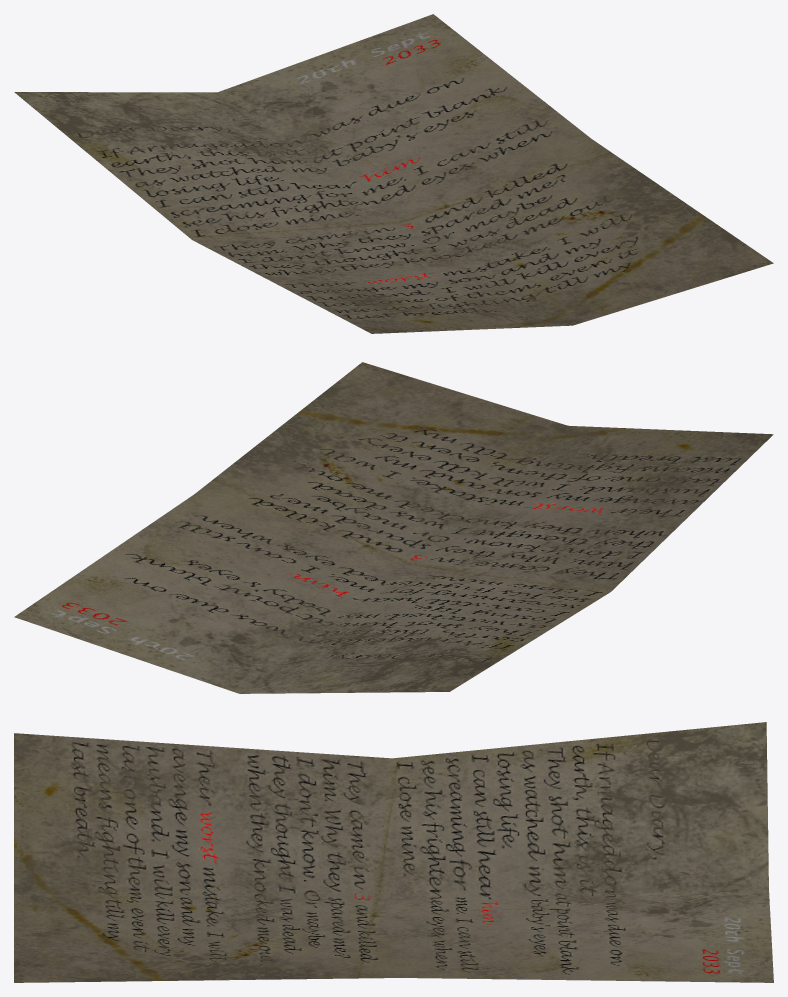
The model's file is Note4.FBX.
3 renders of one model, top to bottom at view 1: azimuth 30°, elevation 25°; view 2: azimuth 150°, elevation 25°; view 3: azimuth 270°, elevation 25°, orthographic. The views are drawn at different scales.
Visible parts, largest first — view 1: Note4; view 2: Note4; view 3: Note4.
Part boxes in pixels (left/top/right/bottom): Note4: left=14, top=14, right=773, bottom=333; Note4: left=14, top=362, right=773, bottom=693; Note4: left=14, top=722, right=773, bottom=982.
Bounding box in the file's own units: 28.09 × 3.47 × 39.2.
